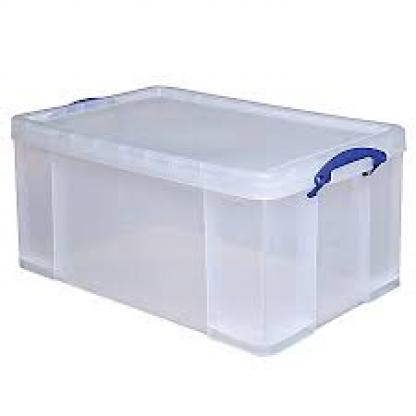plastic_box: (4, 60, 410, 362)
